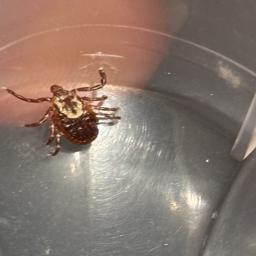Dermacentor variabilis: (5, 67, 118, 157)
